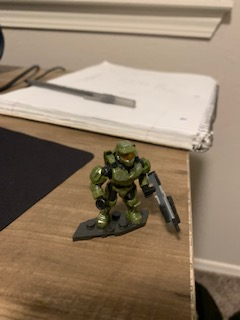chief: (90, 140, 153, 228)
rifle: (146, 169, 182, 233)
spartan: (88, 138, 151, 226)
